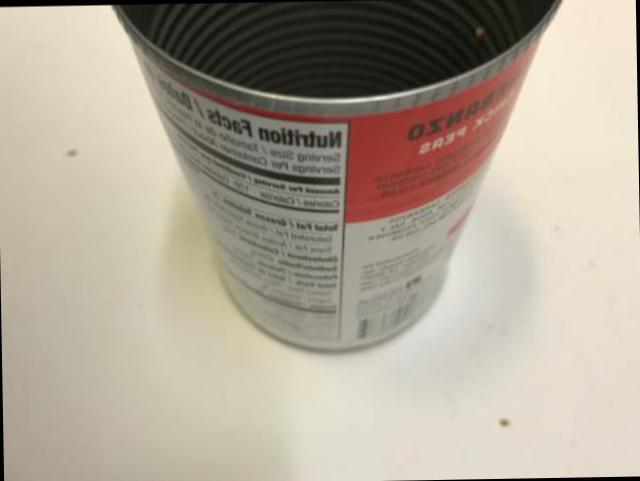metal: (115, 0, 561, 346)
